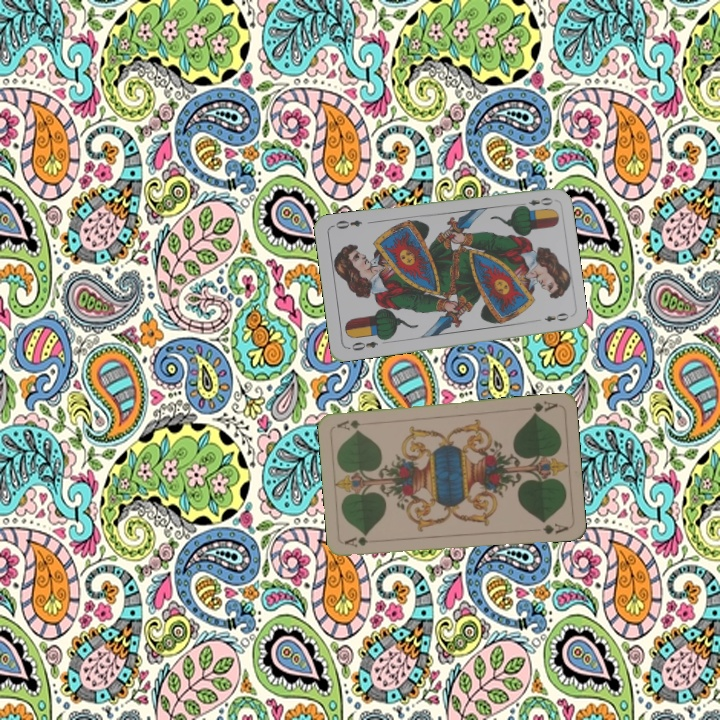EO: (515, 193, 555, 211), (344, 337, 380, 353)
GA: (341, 533, 382, 550), (528, 397, 560, 418)
